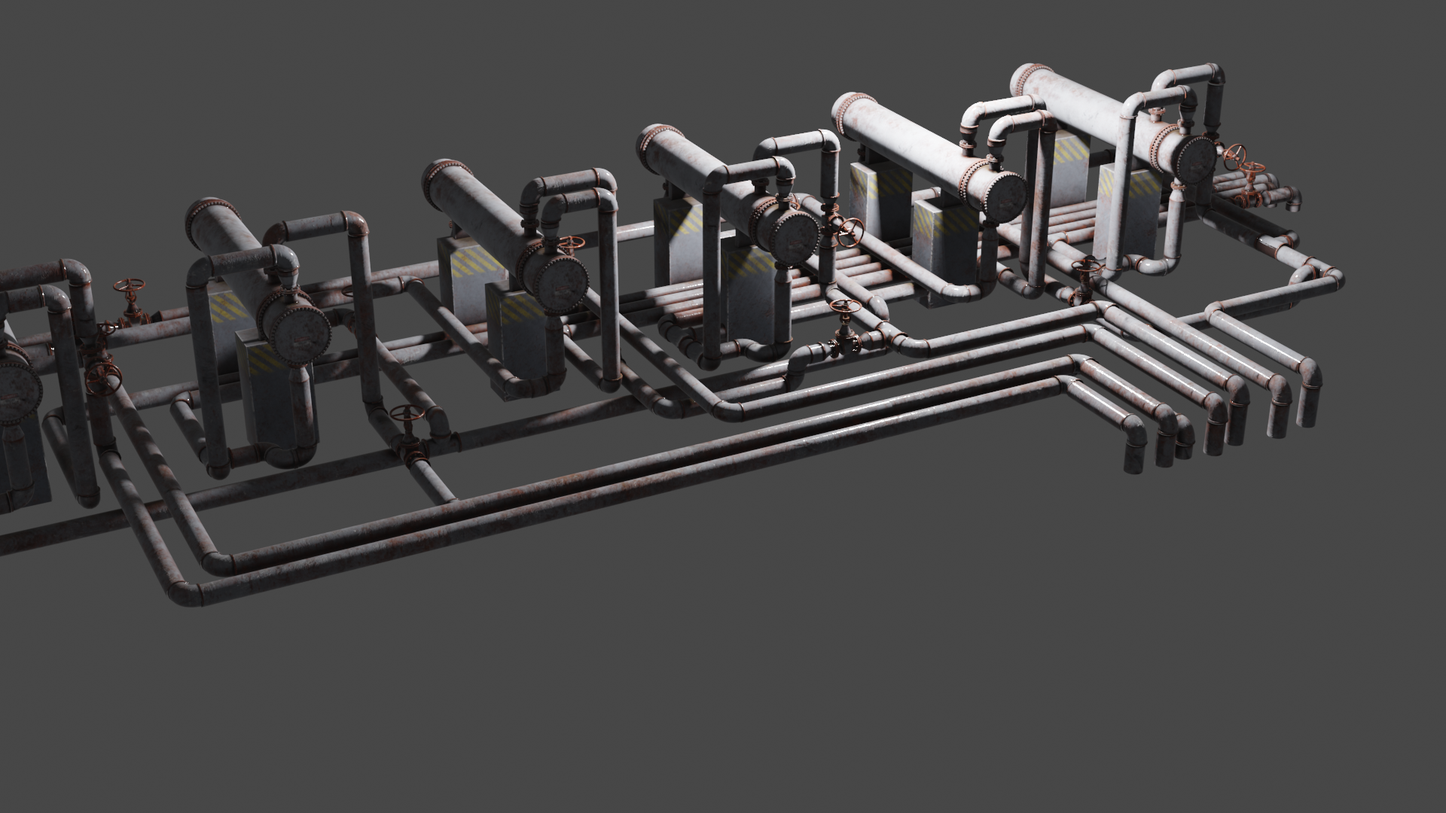HE_1: (0, 317, 41, 424)
HE_2: (183, 196, 324, 358)
HE_3: (420, 155, 589, 312)
HE_4: (634, 118, 821, 261)
HE_5: (828, 83, 1030, 219)
HE_6: (1008, 63, 1218, 180)
